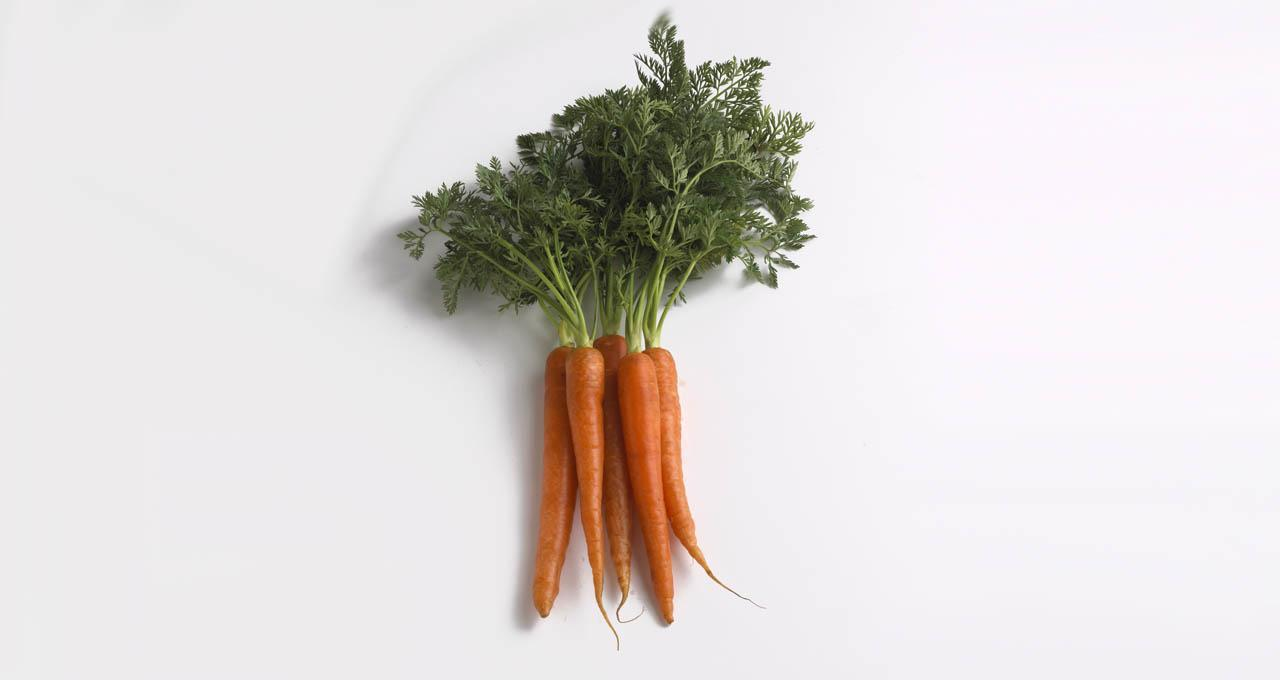carrot: (532, 324, 712, 643), (558, 346, 675, 634)
